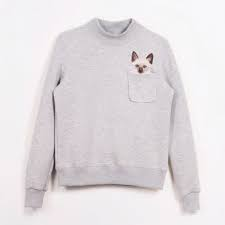cat: (126, 49, 157, 75)
